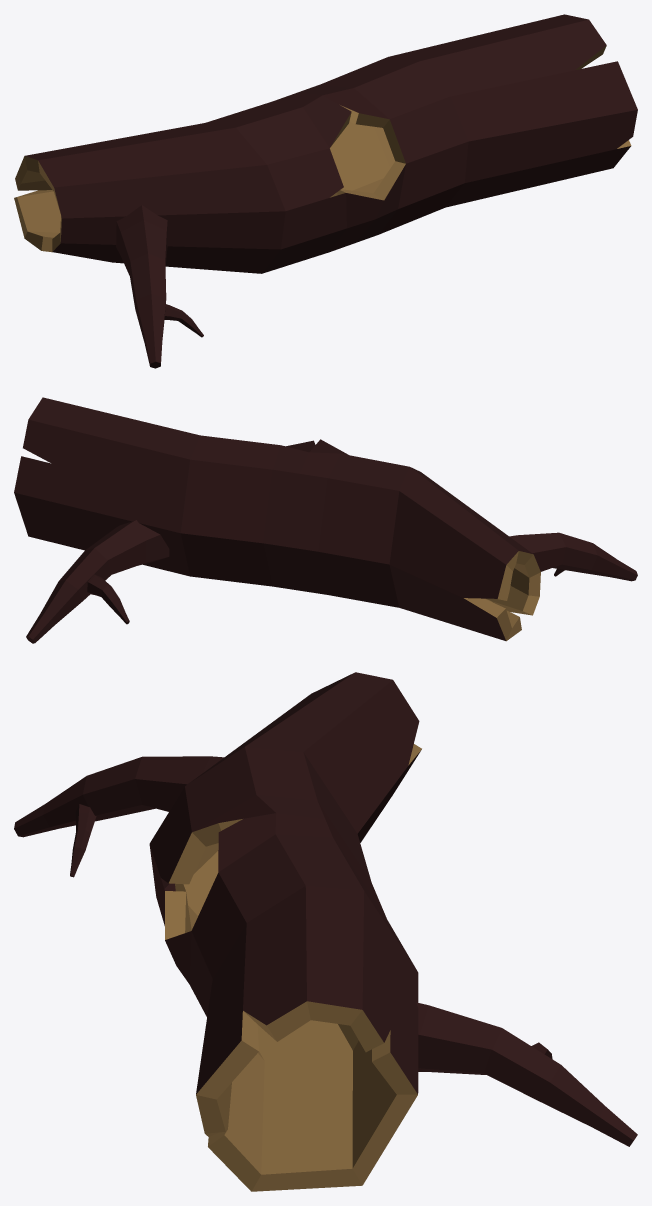
The model's file is TreeLog(1).fbx.
The picture shows the model from 3 angles, top to bottom: view 1: azimuth 30°, elevation 25°; view 2: azimuth 150°, elevation 25°; view 3: azimuth 270°, elevation 25°; orthographic projection. The views are drawn at different scales.
Parts seen in each view (by area): view 1: TreeLog(1); view 2: TreeLog(1); view 3: TreeLog(1).
Part boxes in pixels (x1,y1,x2,y2): TreeLog(1): [14, 14, 637, 368]; TreeLog(1): [14, 397, 637, 643]; TreeLog(1): [14, 672, 637, 1191].
Bounding box in the file's own units: 3.48 × 0.9439 × 2.46.
